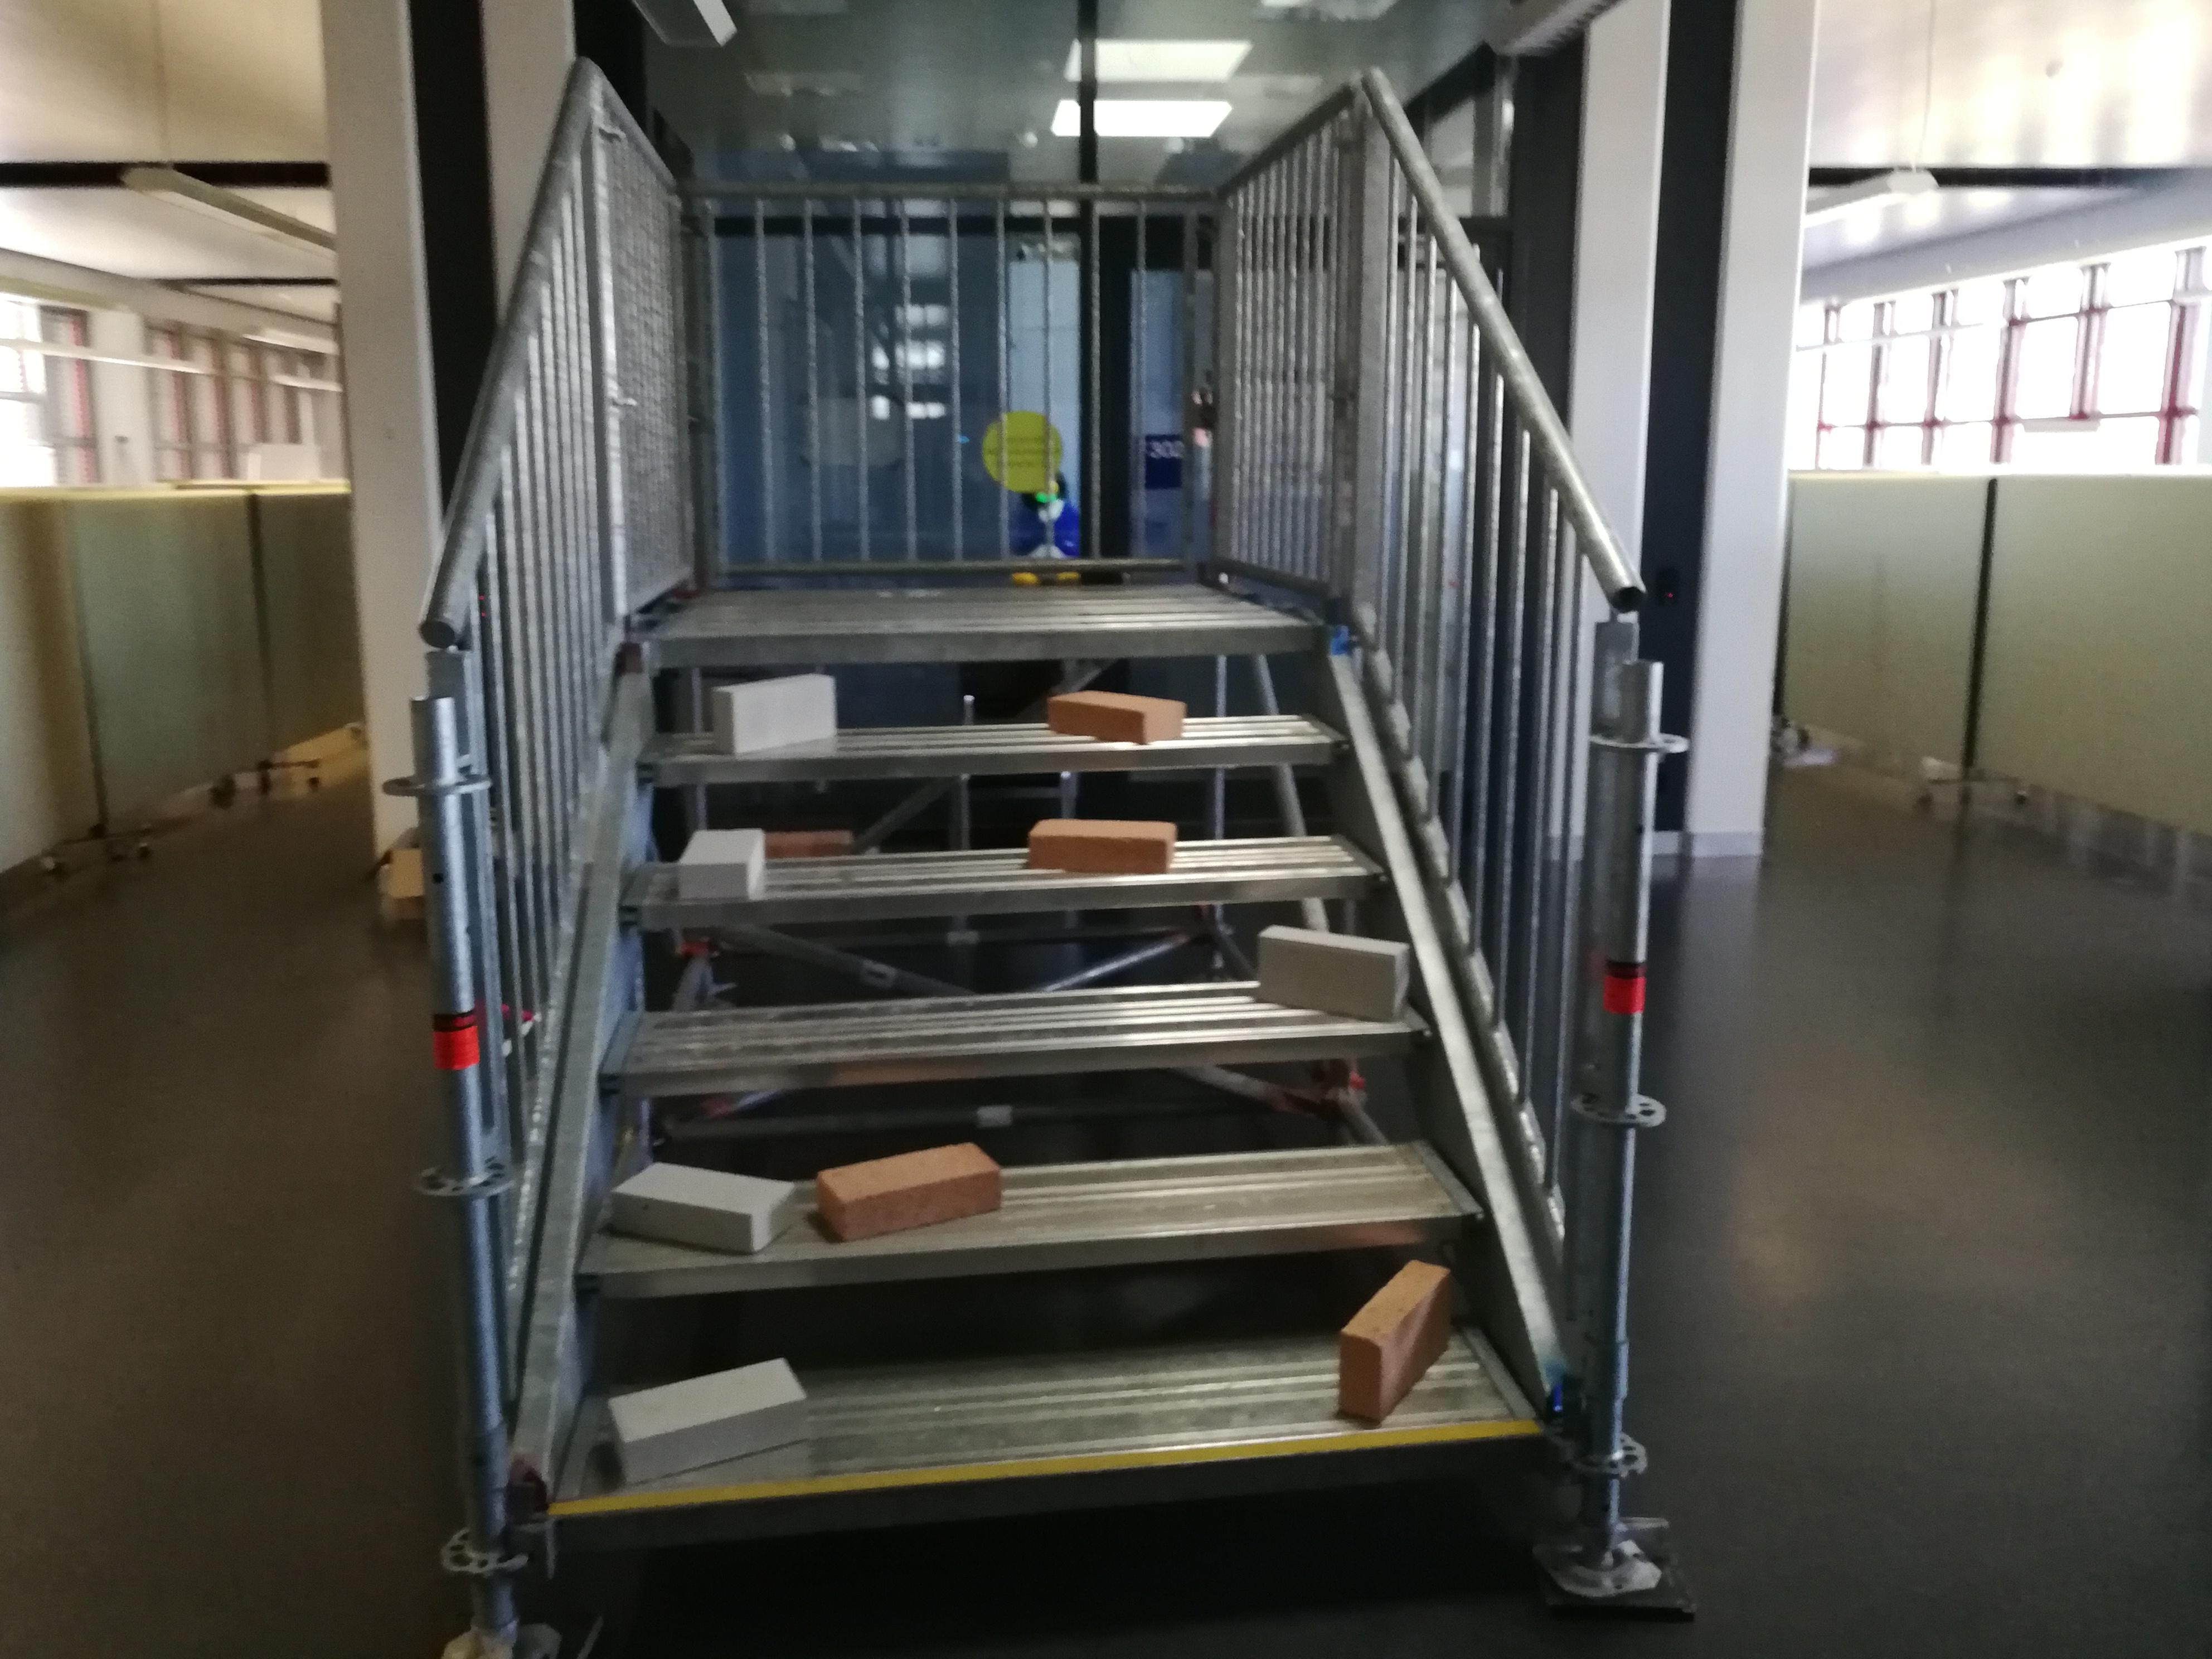brick: (608, 1358, 803, 1483), (815, 1143, 998, 1248), (1338, 1260, 1449, 1425), (608, 1162, 794, 1253), (1254, 927, 1409, 1023), (714, 676, 831, 749), (1050, 692, 1183, 748), (1028, 817, 1169, 870), (676, 828, 761, 896)
edge: (554, 1425, 1534, 1561), (573, 1209, 1491, 1298), (603, 1030, 1433, 1100), (618, 870, 1388, 915), (637, 737, 1346, 779), (653, 622, 1317, 662)
stairs: (378, 58, 1700, 1650)
steps: (535, 603, 1552, 1577)
